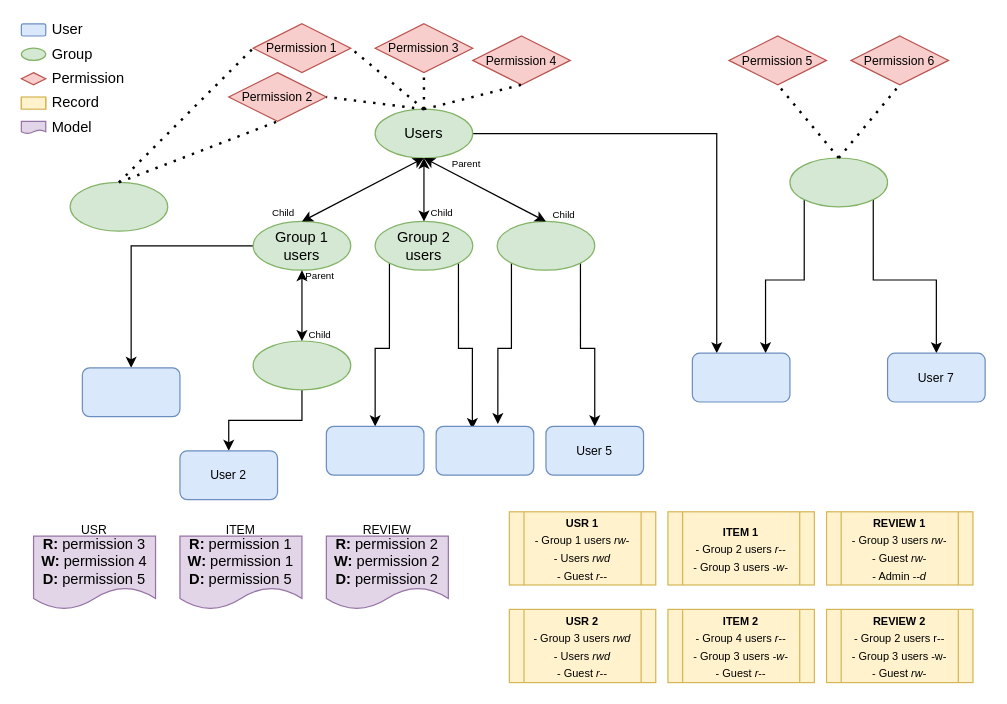
Some shapes in this 1007 by 704 pixel diagram are drawn without their labels. The centre of each missing label's shape, as x and y in pixels:
"Admin" goes at point 838,182.
"Group 3 users" goes at point 545,245.
"Group 4 users" goes at point 301,365.
"Guest" goes at point 118,206.
"User 1" goes at point 130,392.
"User 3" goes at point 374,450.
"User 4" goes at point 484,450.
"User 6" goes at point 740,377.
